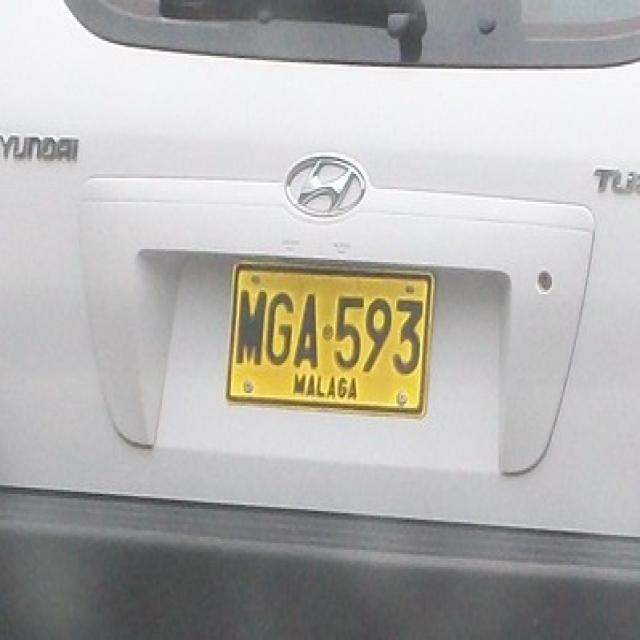placa_carro: (221, 244, 446, 443)
